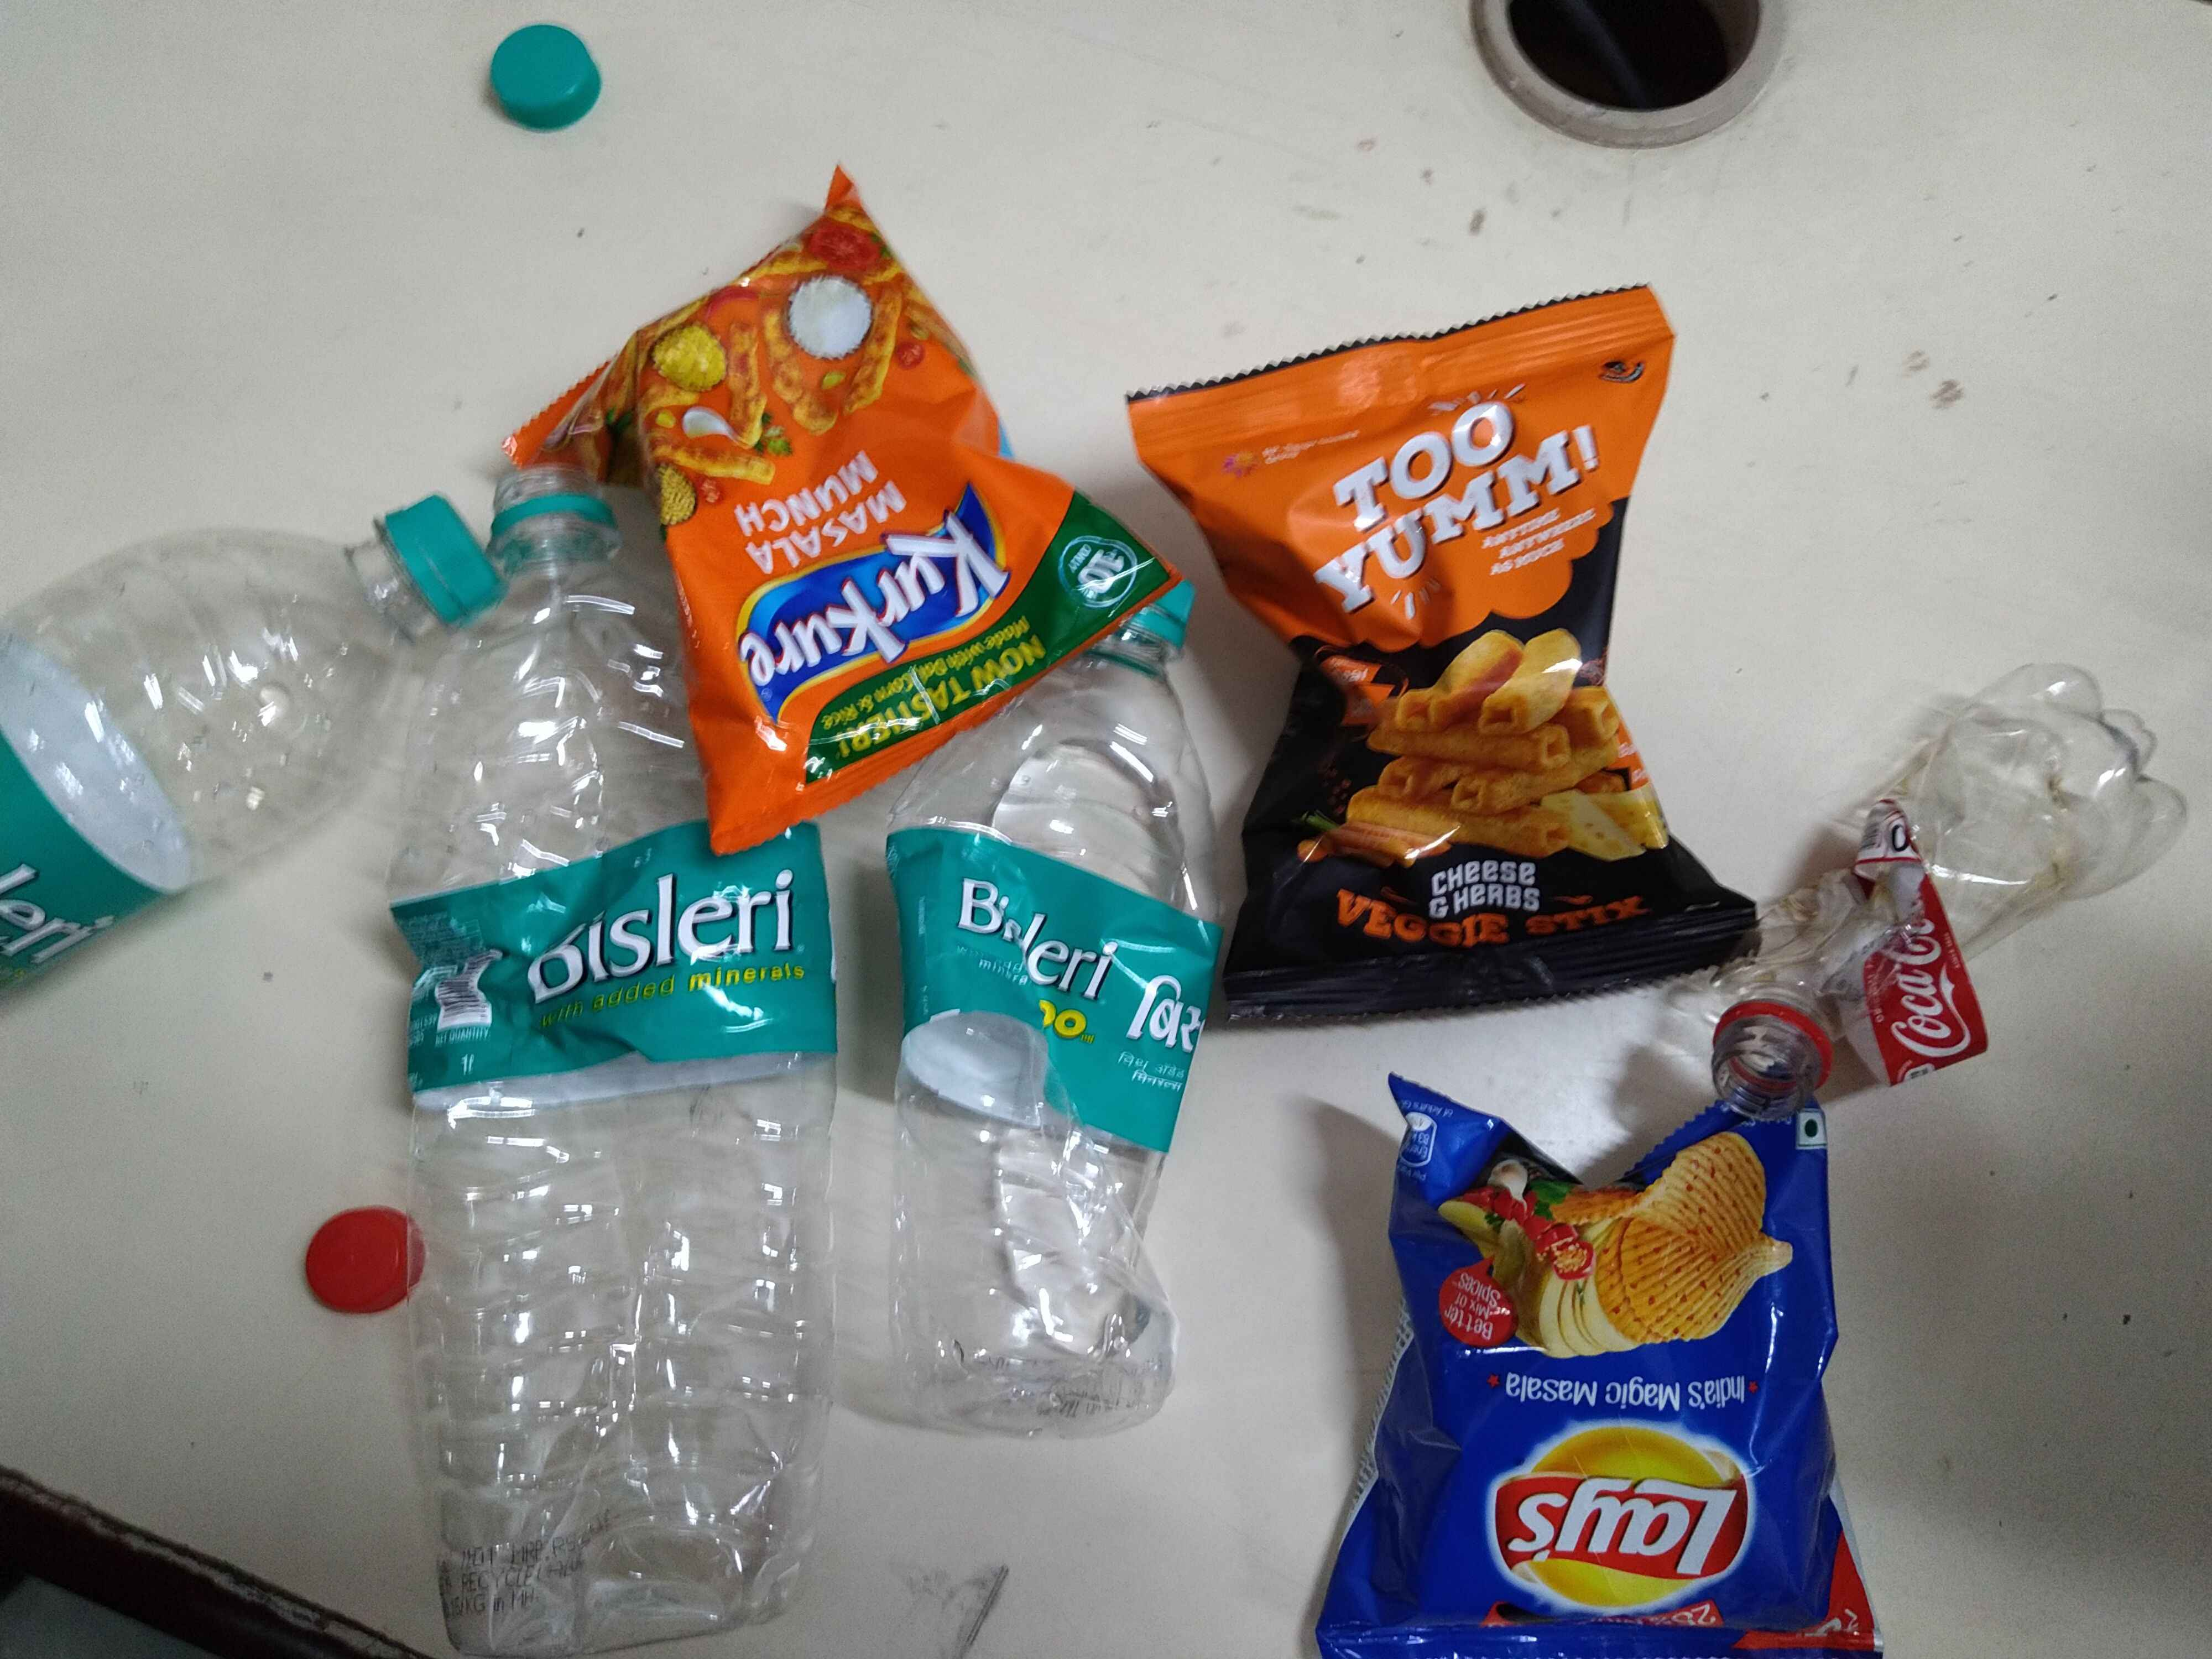Bisleri: (942, 854, 1202, 1094), (448, 878, 841, 1021), (5, 833, 120, 981)
Coca-Cola: (1867, 911, 1986, 1065)
Lays: (1487, 1406, 1771, 1607)
kurkure: (733, 477, 1012, 744)
tooyumm: (1315, 383, 1618, 624)
